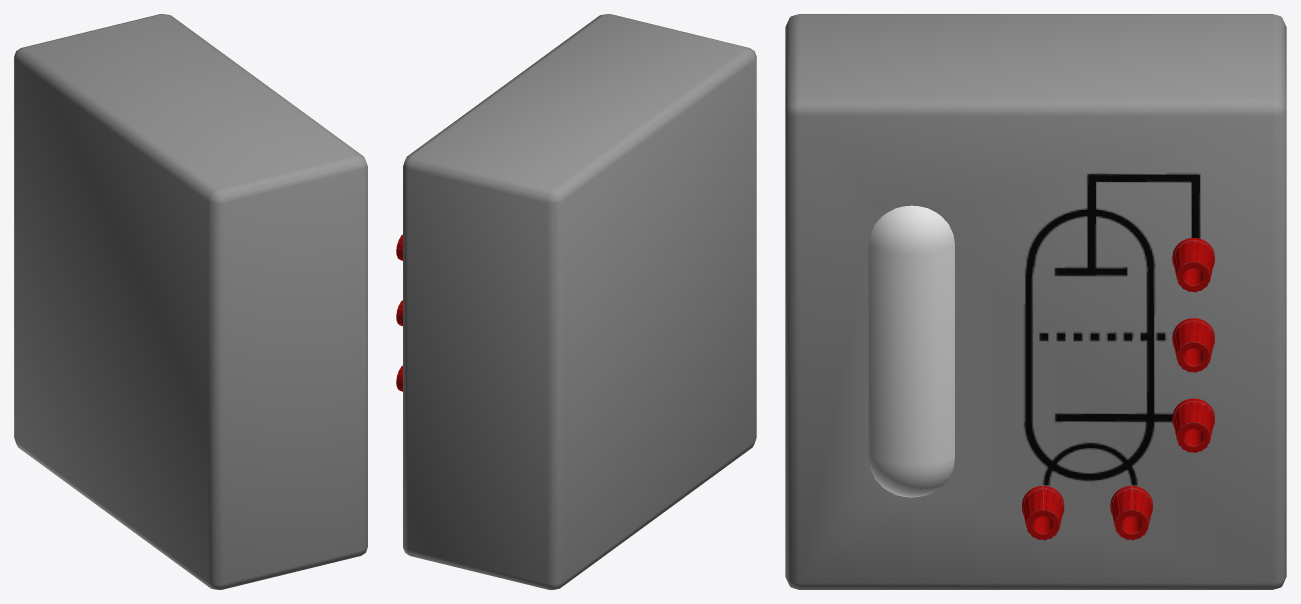
The model's file is Lamp.fbx.
The picture shows the model from 3 angles, left to right: view 1: azimuth 30°, elevation 25°; view 2: azimuth 150°, elevation 25°; view 3: azimuth 270°, elevation 25°; orthographic projection. The views are drawn at different scales.
Parts seen in each view (by area): view 1: Lamp block.002; view 2: Lamp block.002; view 3: Lamp block.002, Flask.002, Lamp socet.002.
Part boxes in pixels (<box>): Lamp block.002: <box>14,14,367,589</box>; Lamp block.002: <box>403,14,756,589</box>; Lamp block.002: <box>785,14,1286,589</box>; Flask.002: <box>868,205,954,497</box>; Lamp socet.002: <box>1022,238,1214,540</box>.
Bounding box in the file's own units: 113 × 226 × 209.
